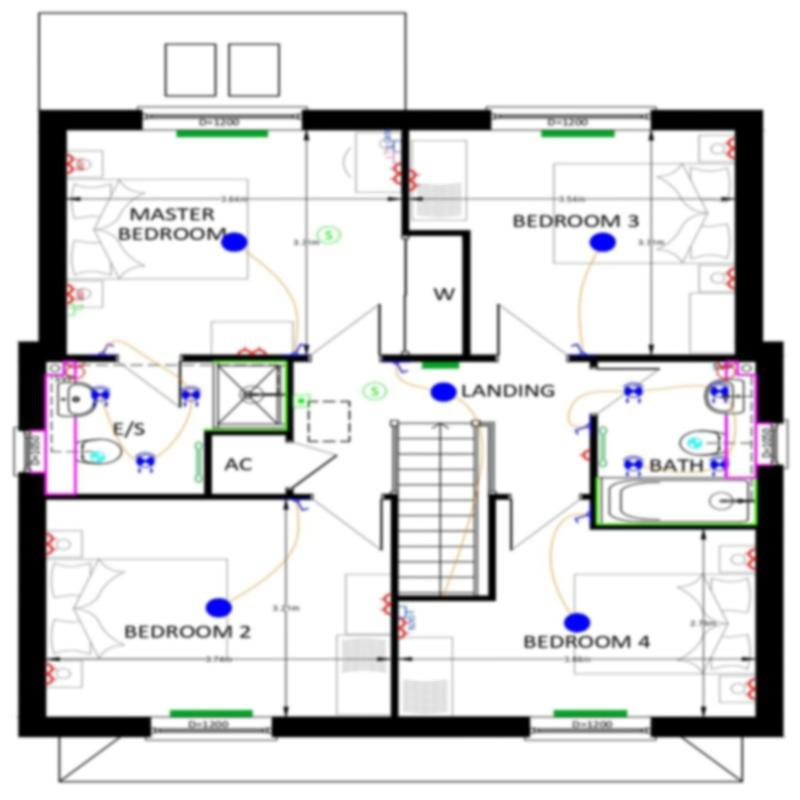Cat 6 Data Socket: (398, 606, 415, 630), (384, 128, 401, 152)
Ceiling Mounted Continuous Extract FanWith Boost Mode Activated By Light Switch: (687, 437, 702, 449), (91, 452, 105, 463)
Co-Ax TV Socket: (385, 148, 401, 164)
Double Socket: (45, 533, 57, 555), (723, 137, 735, 159), (238, 346, 266, 355), (46, 663, 57, 685), (744, 678, 755, 700), (409, 169, 420, 191), (723, 268, 735, 288), (380, 594, 391, 615), (398, 618, 409, 639), (744, 549, 755, 570), (390, 163, 401, 184)
Full Height Tiling: (596, 479, 757, 525), (203, 361, 287, 431)
Light Switch: (293, 499, 310, 511), (393, 362, 409, 374), (574, 423, 590, 435), (575, 512, 590, 524), (100, 343, 114, 355), (571, 343, 586, 354), (292, 344, 305, 354)
Low Energy Downlighter: (623, 455, 644, 477), (135, 452, 156, 473), (623, 382, 643, 403), (710, 382, 730, 403), (90, 386, 110, 407), (181, 386, 201, 407), (710, 456, 730, 476)
Low Energy Pendant Light: (430, 382, 457, 402), (221, 232, 247, 252), (206, 598, 232, 618), (564, 613, 590, 633), (590, 233, 616, 252)
Mains Wired Smoke Detector: (363, 382, 387, 400), (317, 226, 341, 243)
Programmable Room Thermostat: (293, 394, 310, 407)
Radiator: (177, 130, 268, 137), (554, 710, 628, 718), (170, 710, 252, 717), (542, 131, 615, 137), (422, 362, 459, 369)
Shaver Socket: (65, 361, 85, 382), (716, 361, 735, 381)
Single Socket: (579, 450, 590, 460)
Telephone Socket: (67, 304, 83, 316)
USB Double Socket: (66, 284, 84, 304), (67, 153, 84, 174)
